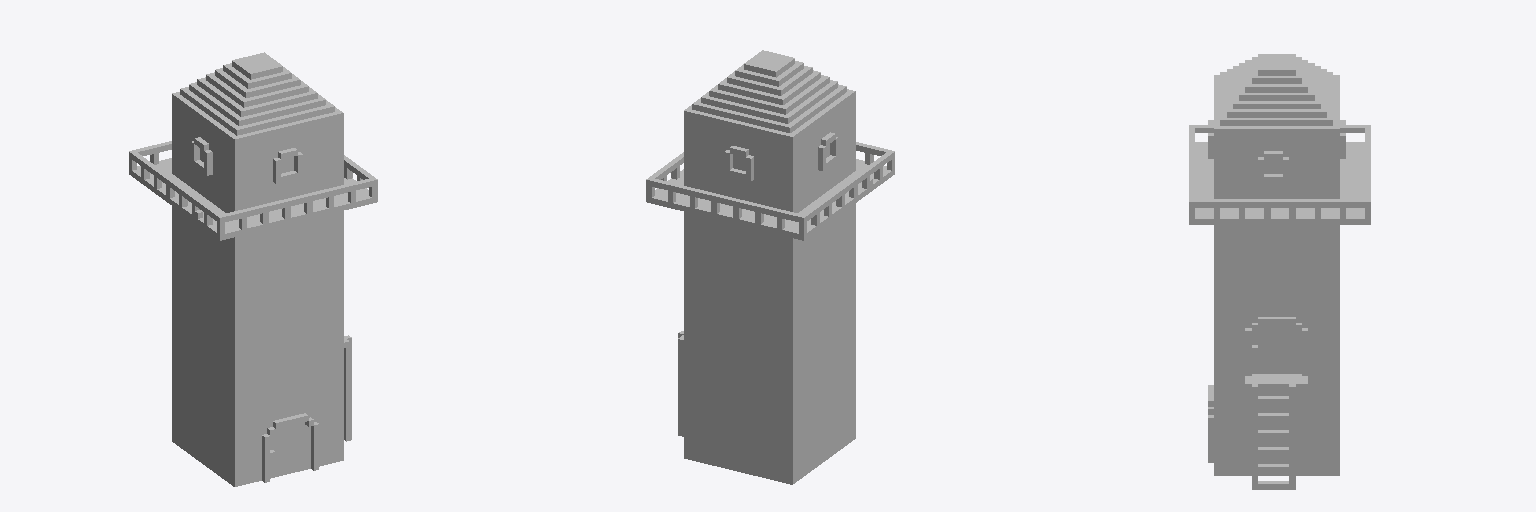
The model's file is WatchTower.obj.
3 renders of one model, left to right at view 1: azimuth 30°, elevation 25°; view 2: azimuth 150°, elevation 25°; view 3: azimuth 270°, elevation 25°, orthographic.
Size of the model in its own units: 30 by 68 by 29.